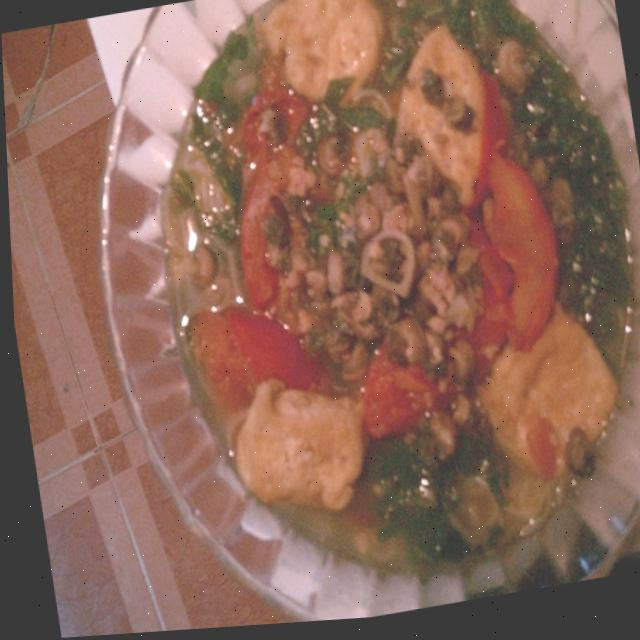面条主食: (56, 0, 640, 637)
